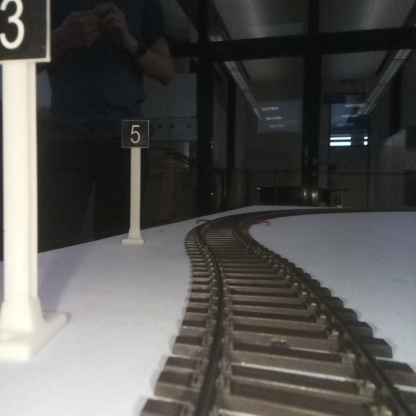black-info-5: (121, 119, 148, 241)
